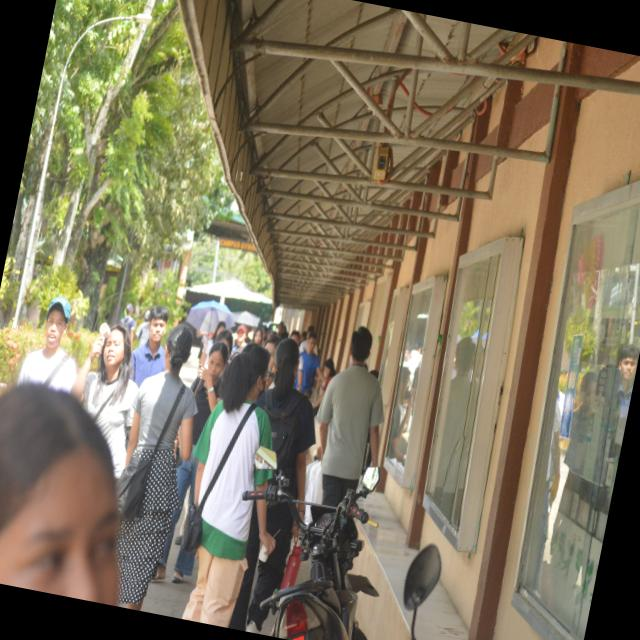person: (0, 385, 119, 605), (183, 344, 272, 627), (118, 325, 196, 610), (317, 327, 384, 506), (72, 325, 138, 477), (229, 505, 299, 633), (18, 297, 76, 392), (191, 342, 228, 445), (132, 306, 168, 387), (295, 334, 320, 397), (120, 303, 136, 342), (135, 310, 150, 346), (299, 326, 314, 353)
